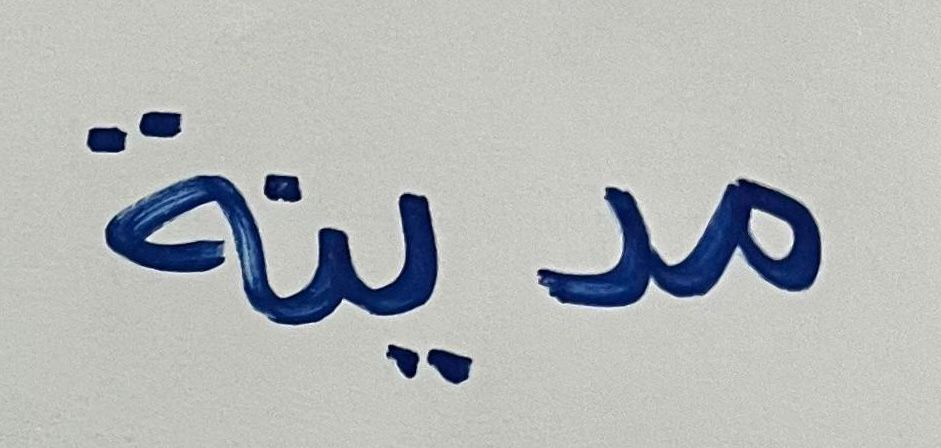dal: (516, 138, 667, 369)
meem: (673, 150, 848, 339)
noon: (263, 144, 349, 376)
teh_marbota: (67, 84, 256, 345)
yeh: (354, 172, 494, 416)
